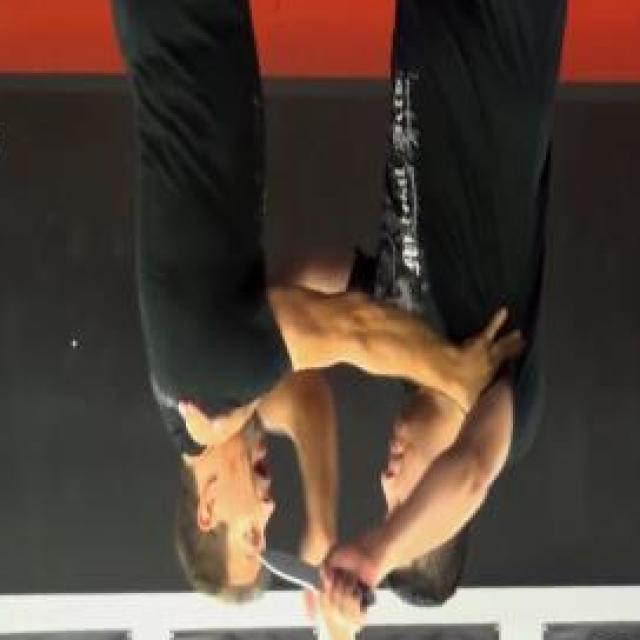knife: (255, 541, 381, 633)
